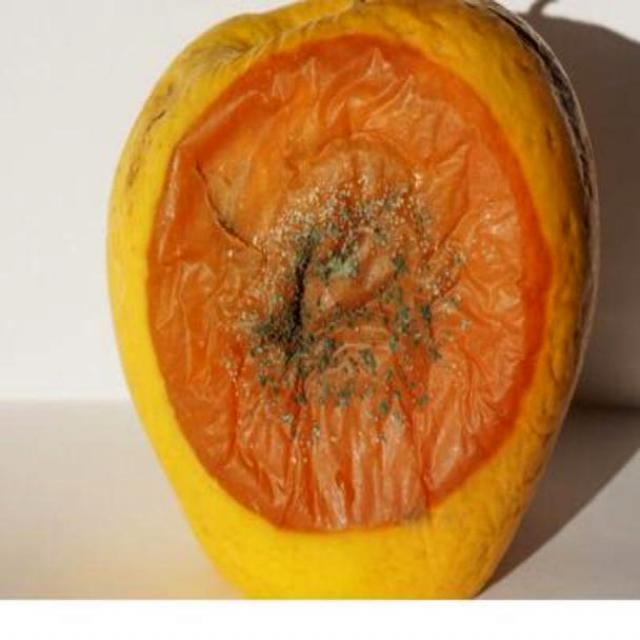ROT: (68, 10, 599, 588)
